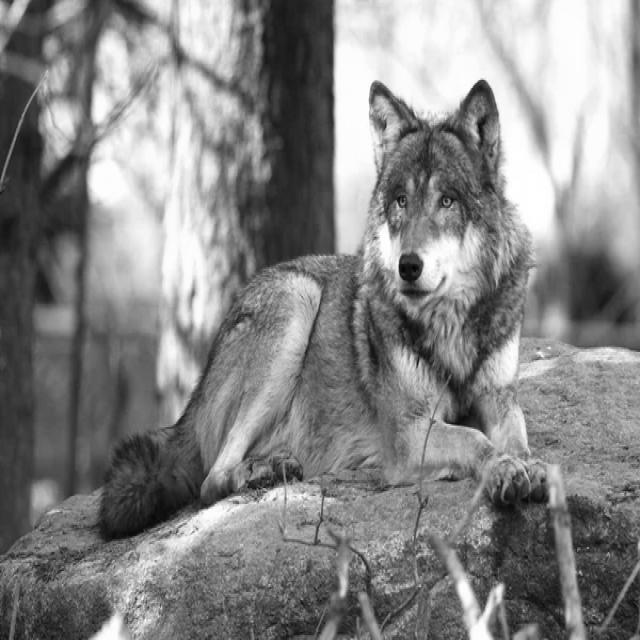Animal: (98, 81, 547, 538)
